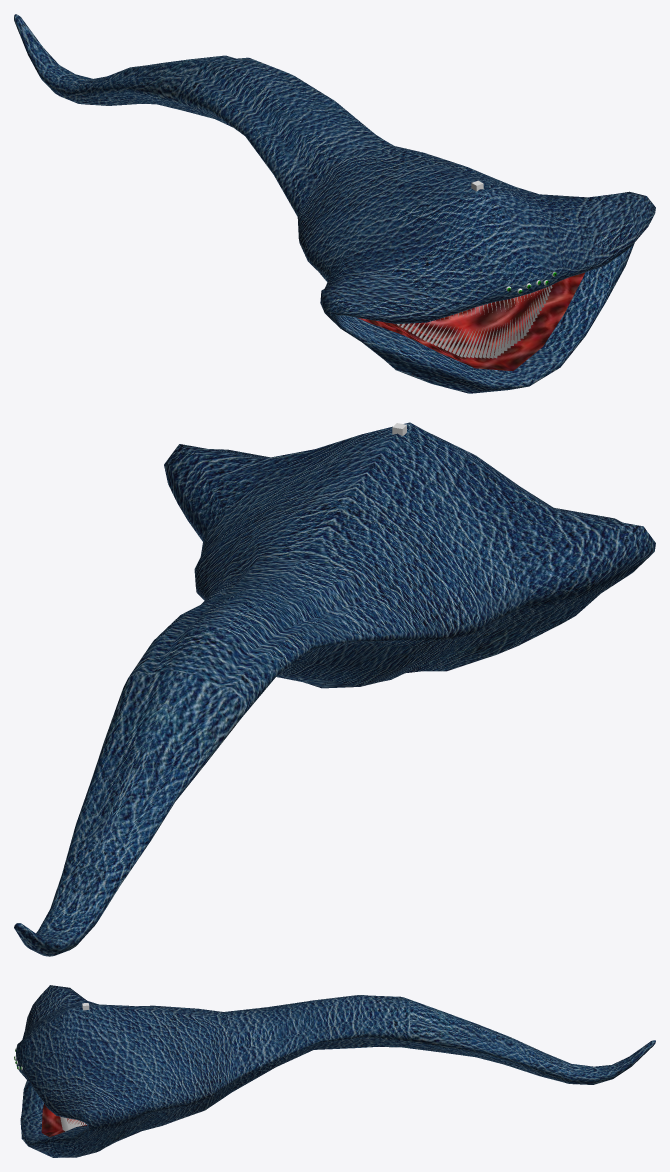
File: el-gran-maja.glb
3 views of the same model, one above another, from view 1: azimuth 30°, elevation 25°; view 2: azimuth 150°, elevation 25°; view 3: azimuth 270°, elevation 25° (orthographic). The views are drawn at different scales.
Visible parts, largest first — view 1: ffff.001, ffff.002, ffff; view 2: ffff.001; view 3: ffff.001, ffff.002, ffff.
Boxes of the visible parts, box(x1,y1,x2,y2) form: ffff.001: box(14, 14, 655, 393); ffff.002: box(357, 272, 584, 371); ffff: box(397, 180, 553, 358); ffff.001: box(14, 422, 655, 956); ffff.001: box(16, 985, 655, 1157); ffff.002: box(41, 1104, 87, 1136); ffff: box(17, 1003, 89, 1131).
Bounding box in the file's own units: 182 × 96.28 × 380.
Materials: 4 (3 with a texture image).
